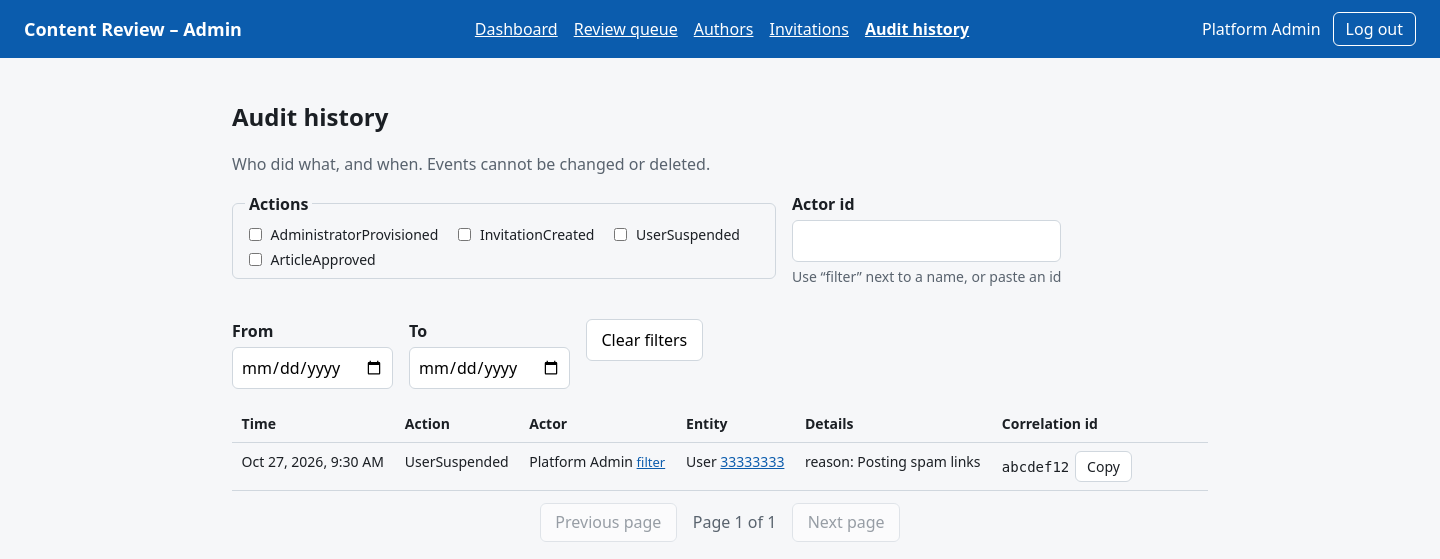
Test: filters › filters by an actor from the table
Step 1. Click the button with aria-label "Only events by Platform Admin" → (651, 463), box [637,453,665,472]
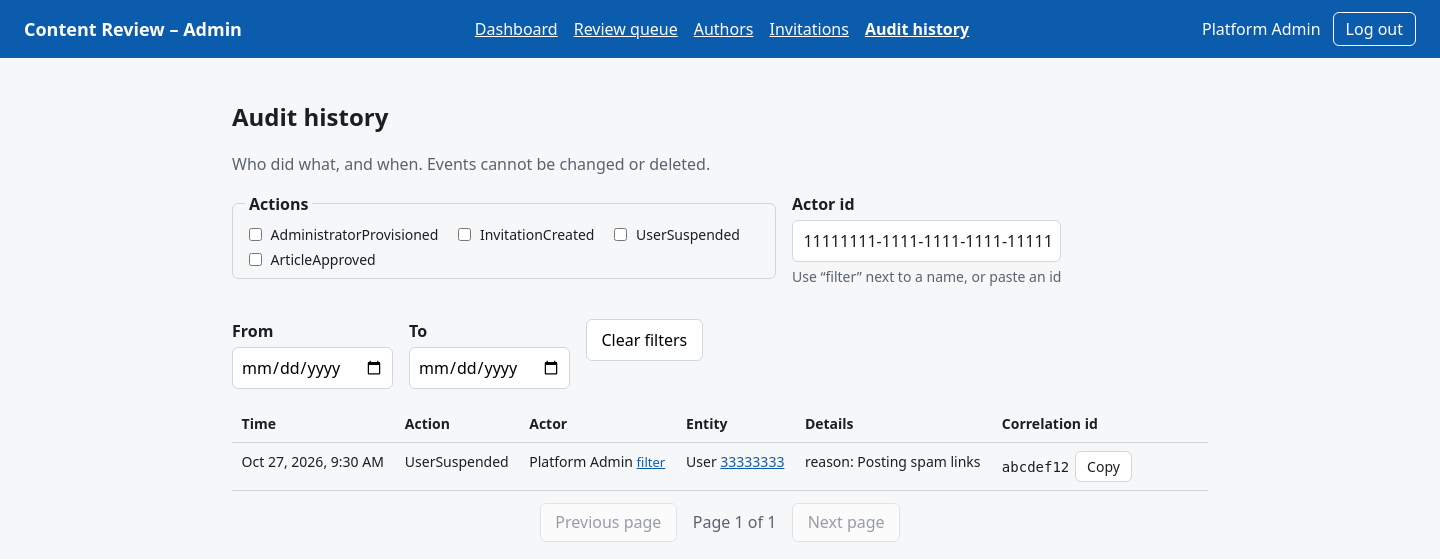
Expected: the field labelled "Actor id" holds "11111111-1111-1111-1111-111111111111", [792,220,1061,262]
